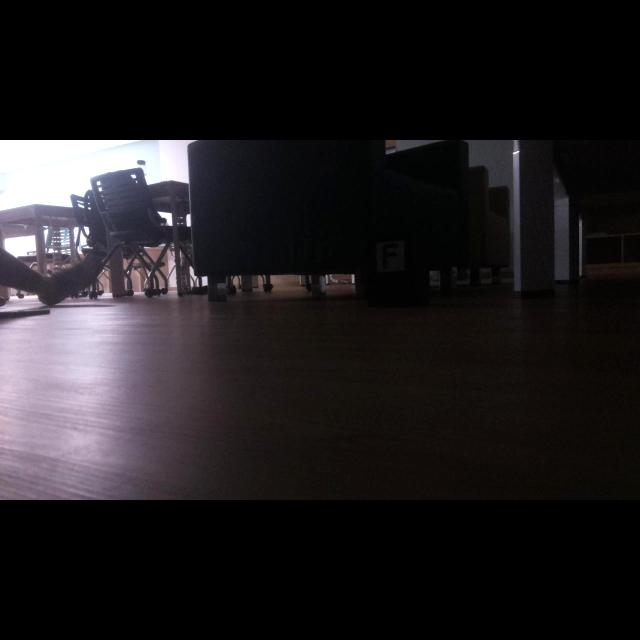F: (383, 243, 399, 269)
